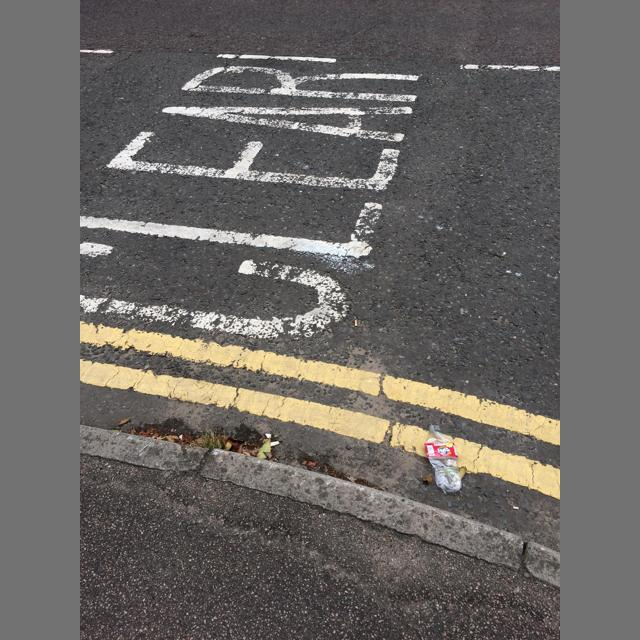litter: (424, 425, 462, 495), (355, 320, 357, 327)
